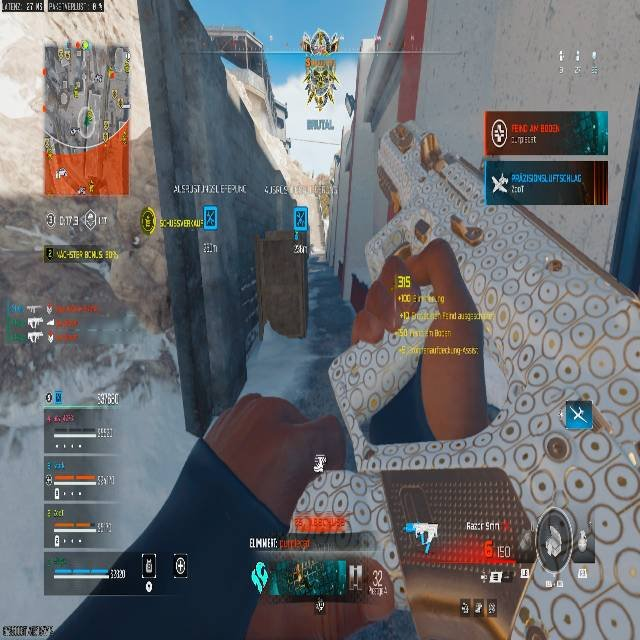player: (77, 185, 501, 640), (299, 29, 342, 113)
